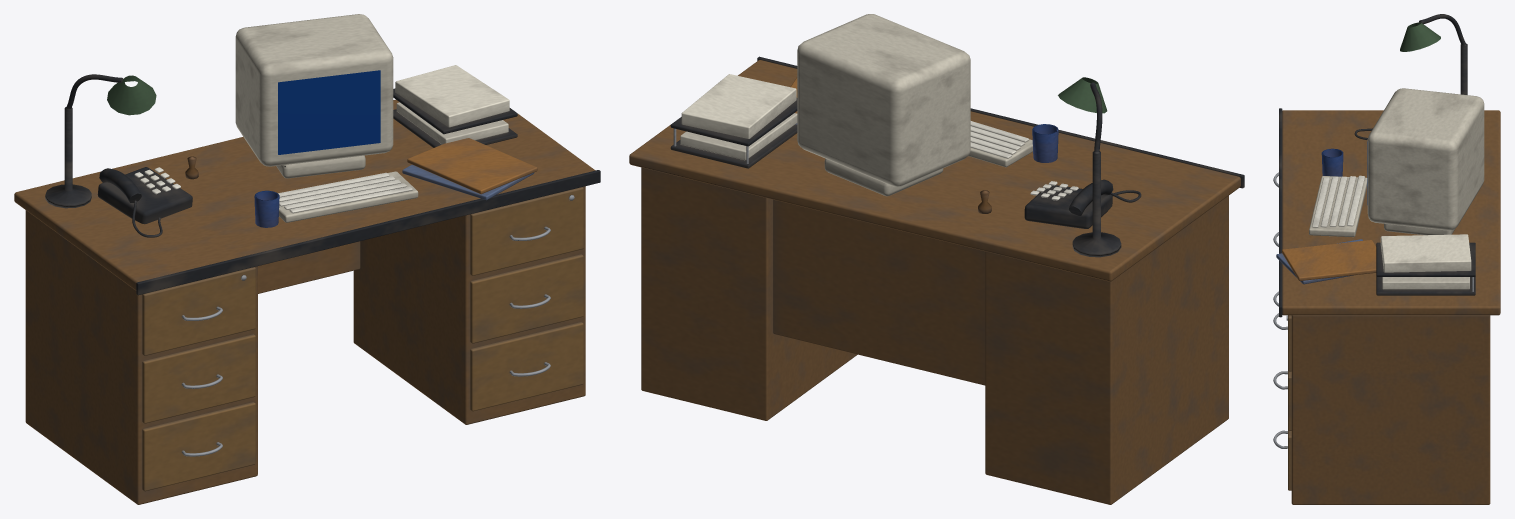
File: kom_biurko.glb
3 views of the same model, side by side, from view 1: azimuth 30°, elevation 25°; view 2: azimuth 150°, elevation 25°; view 3: azimuth 270°, elevation 25° (orthographic). The views are drawn at different scales.
Parts seen in each view (by area): view 1: Biurko, Sprzet, Ekran; view 2: Biurko, Sprzet; view 3: Biurko, Sprzet.
Boxes of the visible parts, x1,y1,x2,y2 form: Biurko: (14, 99, 600, 504); Sprzet: (45, 14, 537, 237); Ekran: (278, 70, 380, 154); Biurko: (629, 56, 1244, 504); Sprzet: (670, 14, 1141, 257); Biurko: (1273, 108, 1500, 504); Sprzet: (1276, 14, 1484, 295).
Size of the model in its own units: 1.61 by 1.2 by 0.7778.
3 materials, 2 textured.
